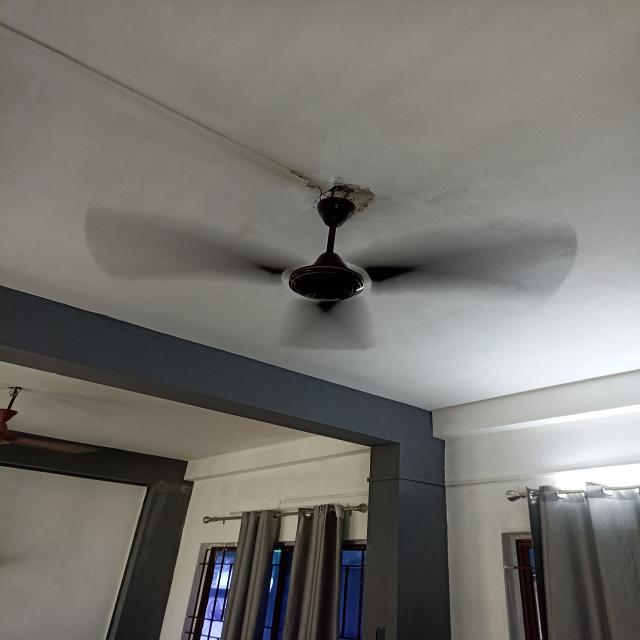fan: (76, 113, 579, 372), (0, 385, 100, 455)
light: (285, 189, 371, 307)
